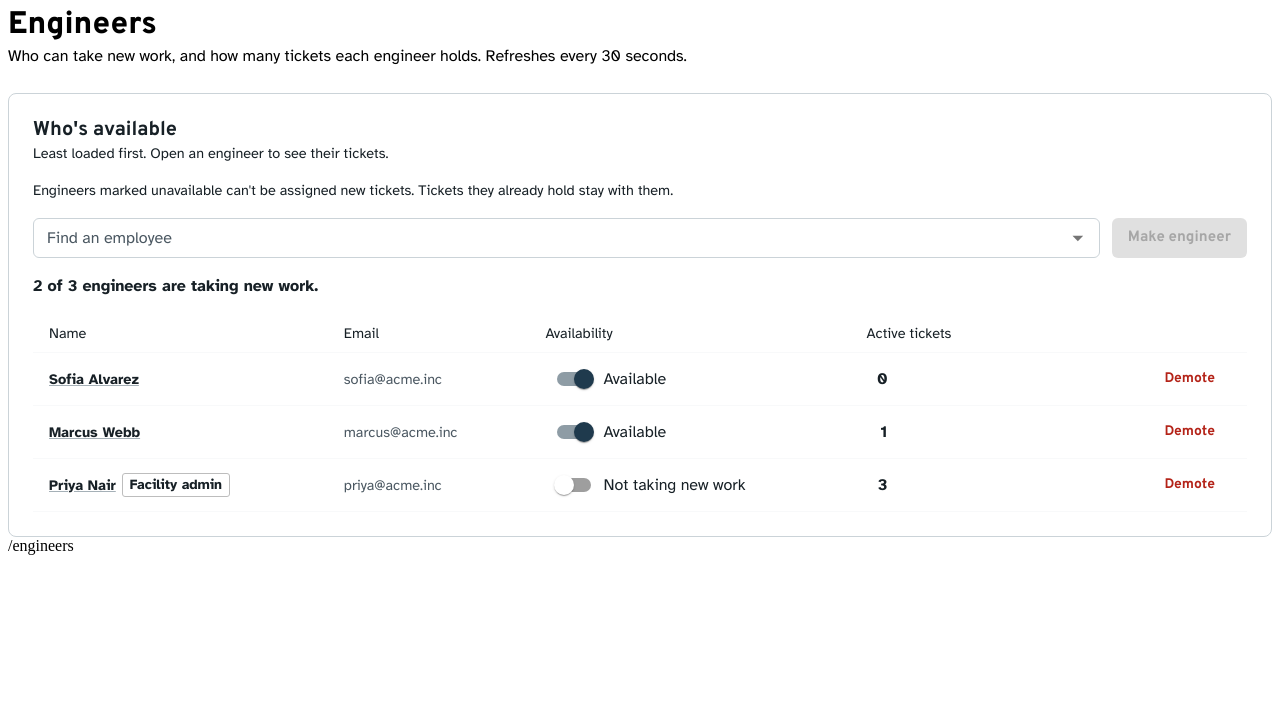
Test: Who's available › says why a change failed, with the reference
This screenshot has width=1280, height=720.
Click the switch named "Marcus Webb takes new tickets" at (612,432), box x1=557 y1=422 x2=666 y2=442
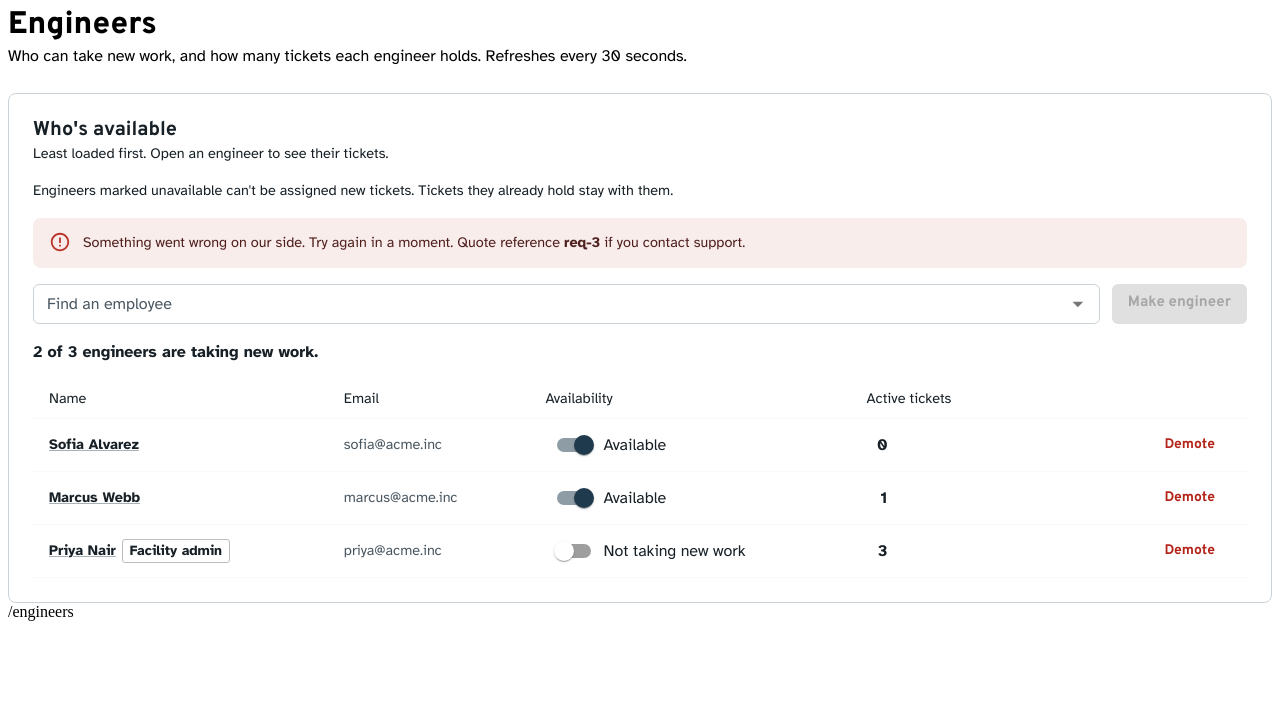
Now the 1st message shows "Quote reference req-3", box x1=33 y1=218 x2=1247 y2=268
